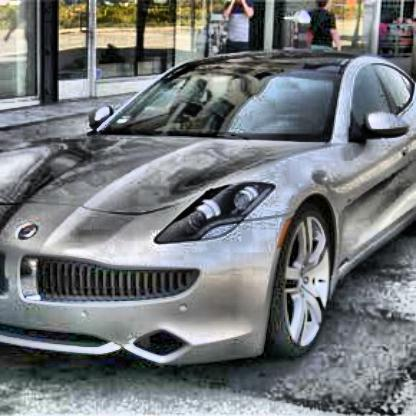Fisker Karma Sedan 2012: (2, 49, 416, 373)
